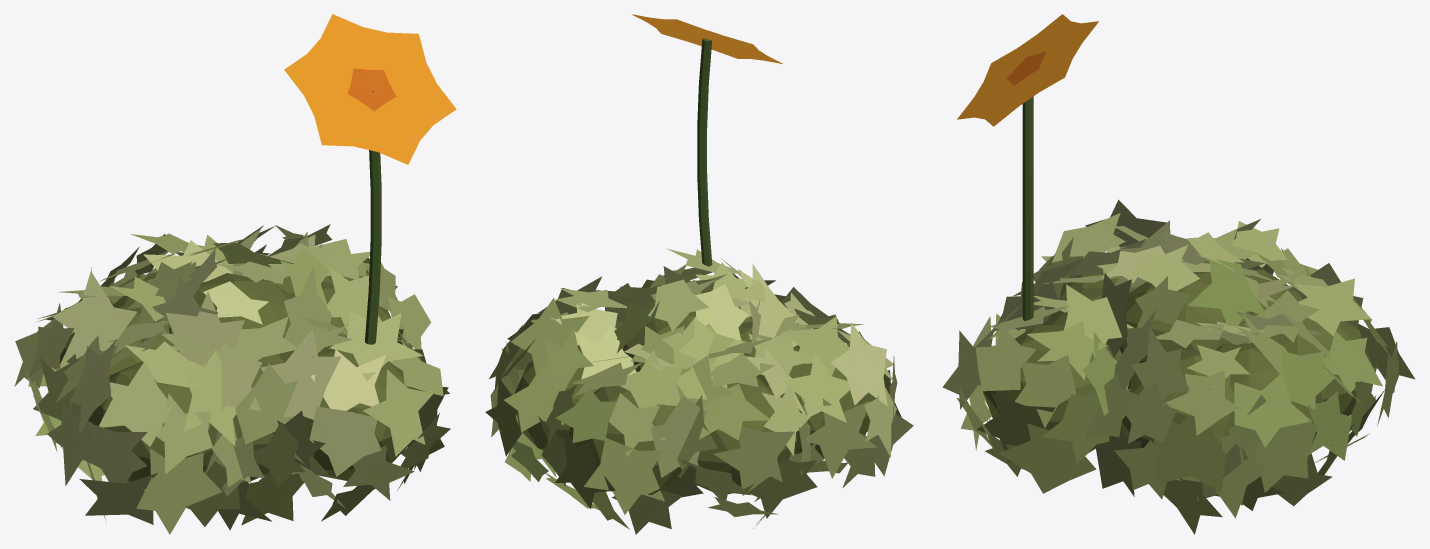
The model's file is flower_orange_hd.glb.
3 views of the same model, side by side, from view 1: azimuth 30°, elevation 25°; view 2: azimuth 150°, elevation 25°; view 3: azimuth 270°, elevation 25° (orthographic). The views are drawn at different scales.
Parts seen in each view (by area): view 1: flower_orange; view 2: flower_orange; view 3: flower_orange.
Part boxes in pixels (bbox=[...]): flower_orange: bbox=[14, 14, 456, 534]; flower_orange: bbox=[485, 14, 913, 534]; flower_orange: bbox=[942, 14, 1415, 534].
Bounding box in the file's own units: 0.6636 × 0.7641 × 0.6895.
Materials: 1 (1 with a texture image).
